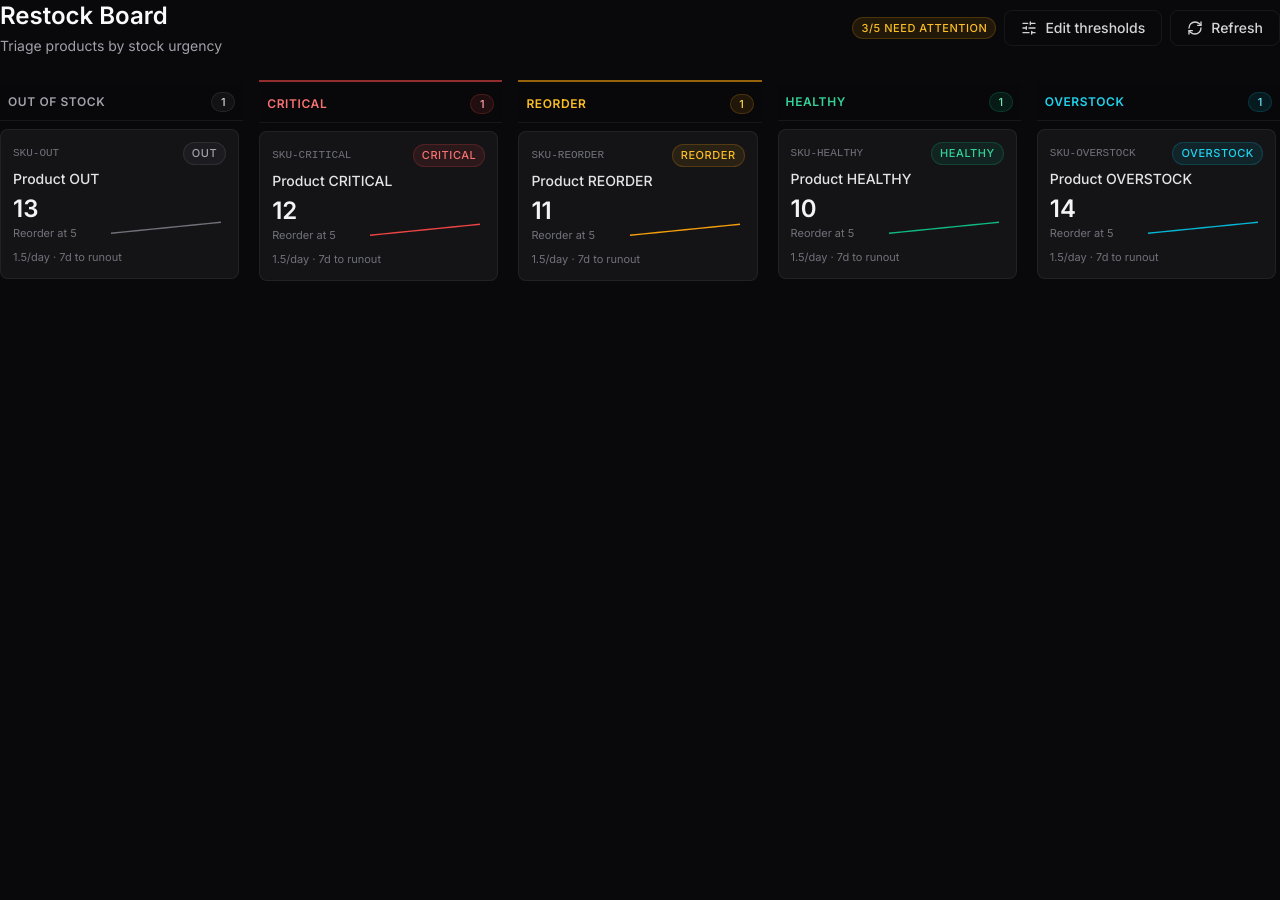
Test: RestockBoard › clicking the bulk-thresholds button opens the modal
Click the button with test id "bulk-thresholds-open" at [1083, 28], box [1004, 10, 1162, 46]
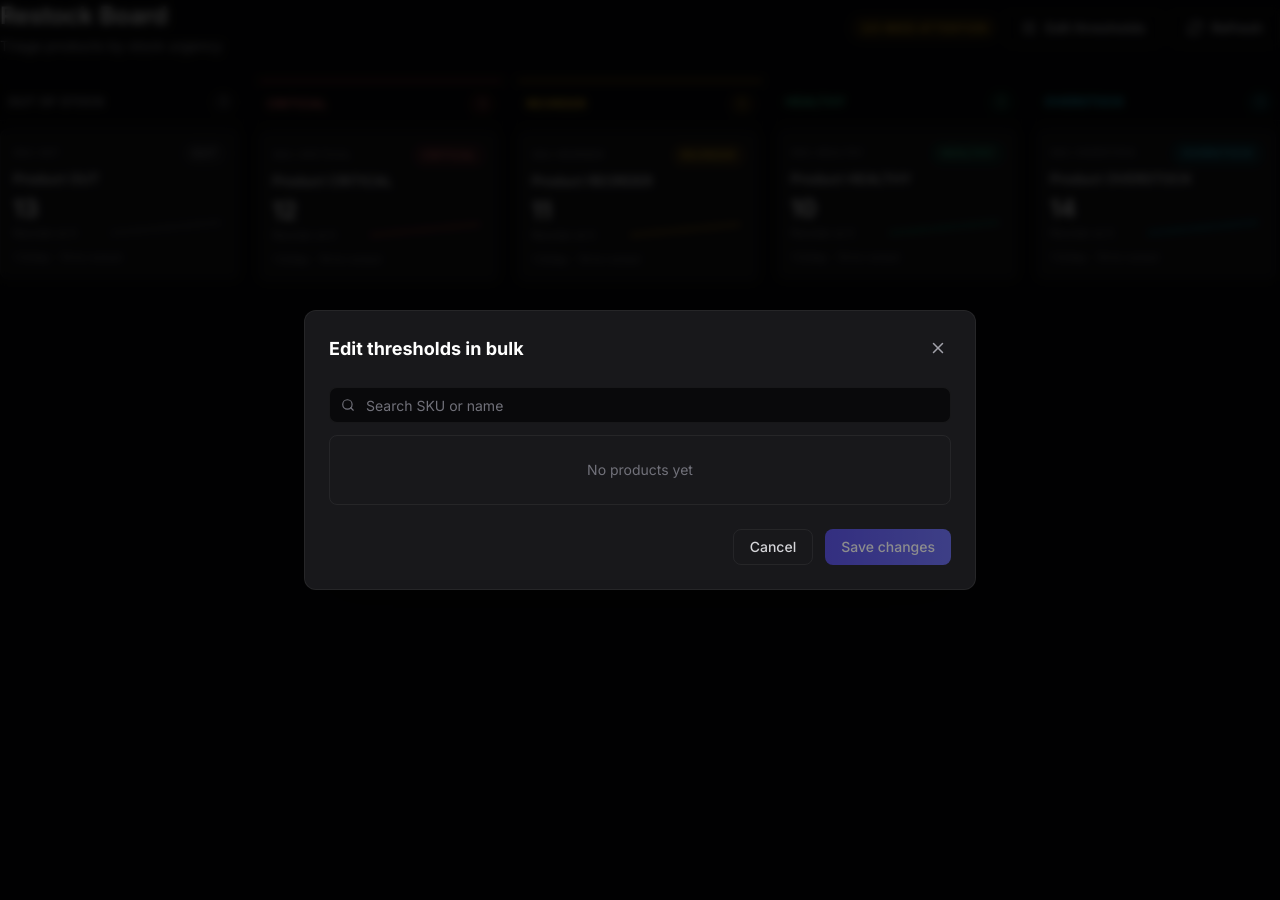
Expected: the element with test id "bulk-thresholds-modal" is shown, [329, 387, 951, 505]
